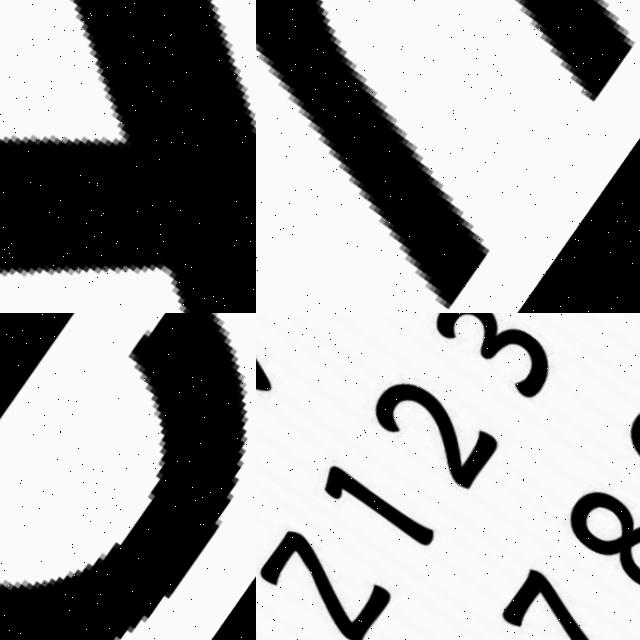1: (303, 441, 452, 578)
2: (339, 344, 521, 517)
3: (410, 313, 577, 423)
7: (476, 553, 639, 640)
8: (533, 468, 640, 634)
9: (595, 382, 640, 546)
E: (0, 313, 240, 640)
H: (256, 0, 640, 313)
X: (0, 0, 256, 313)
